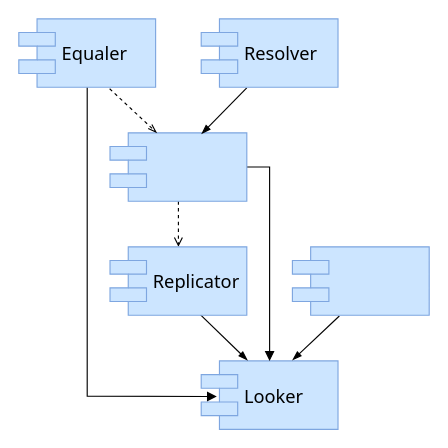
Some shapes in this 448 by 448 pixel diagram are drawn without their labels. Here are the shapes that lost their labels. From the top down, the box of each, then its label:
(109, 132, 247, 201): Selector
(291, 246, 429, 315): Stringer
